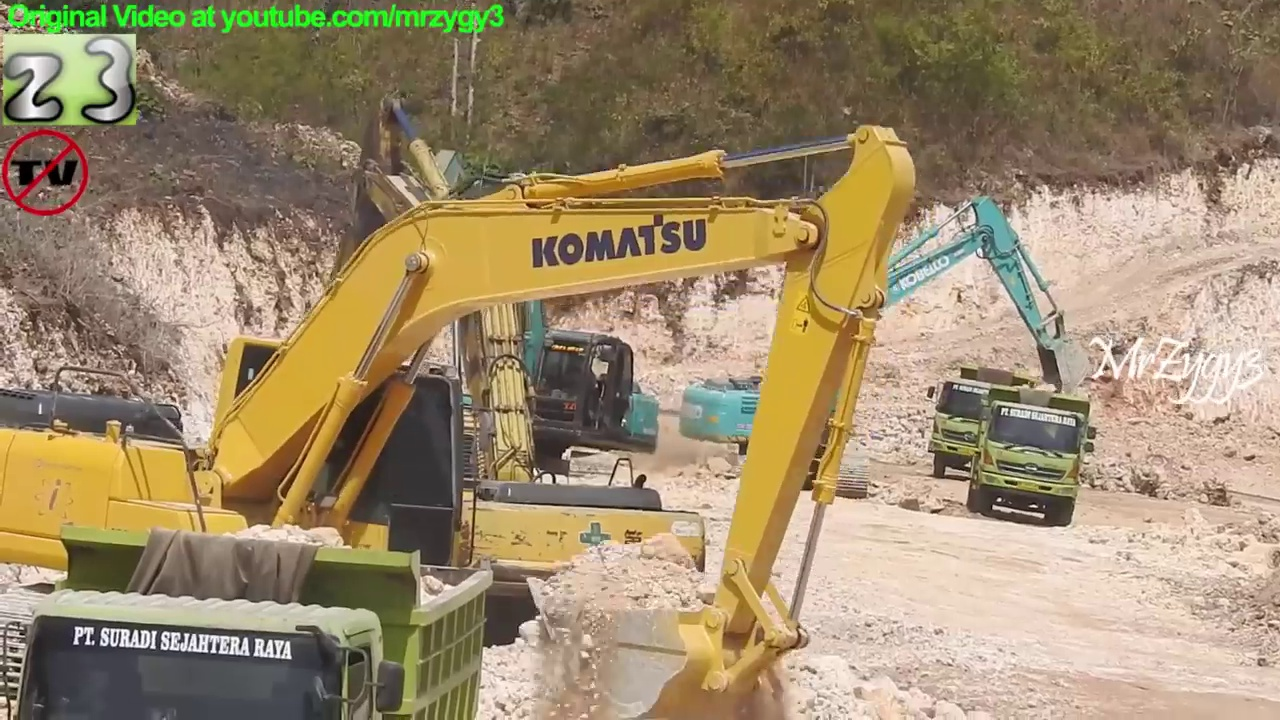excavator: (1, 121, 914, 716), (334, 86, 711, 595), (677, 197, 1093, 497)
truck: (974, 382, 1084, 534), (926, 356, 1003, 481)
